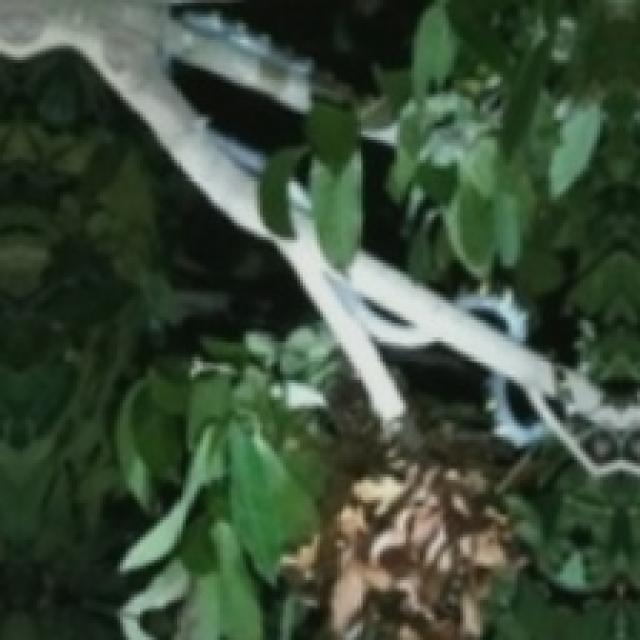mangrove cat snake: (330, 272, 438, 349), (492, 372, 549, 449), (454, 291, 528, 342), (221, 134, 265, 176), (291, 180, 310, 211)
